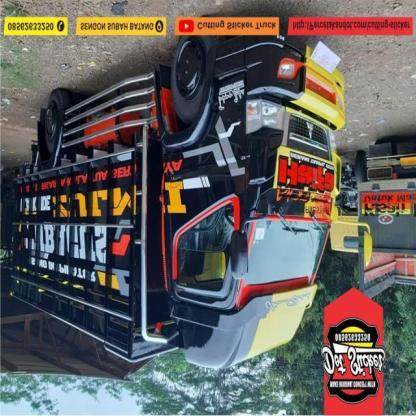truck: (13, 34, 371, 364)
